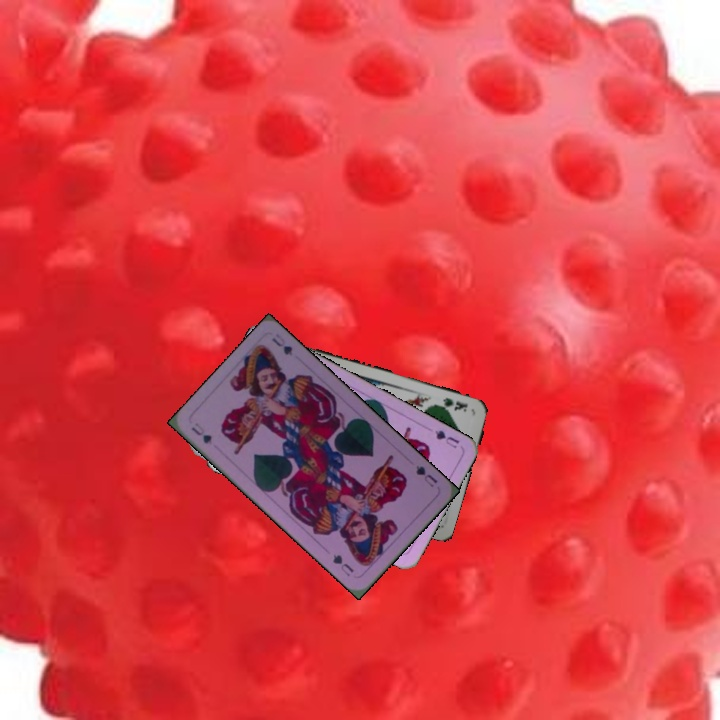GK: (433, 393, 470, 414)
GU: (412, 461, 440, 490), (187, 419, 215, 447), (431, 426, 462, 451)
